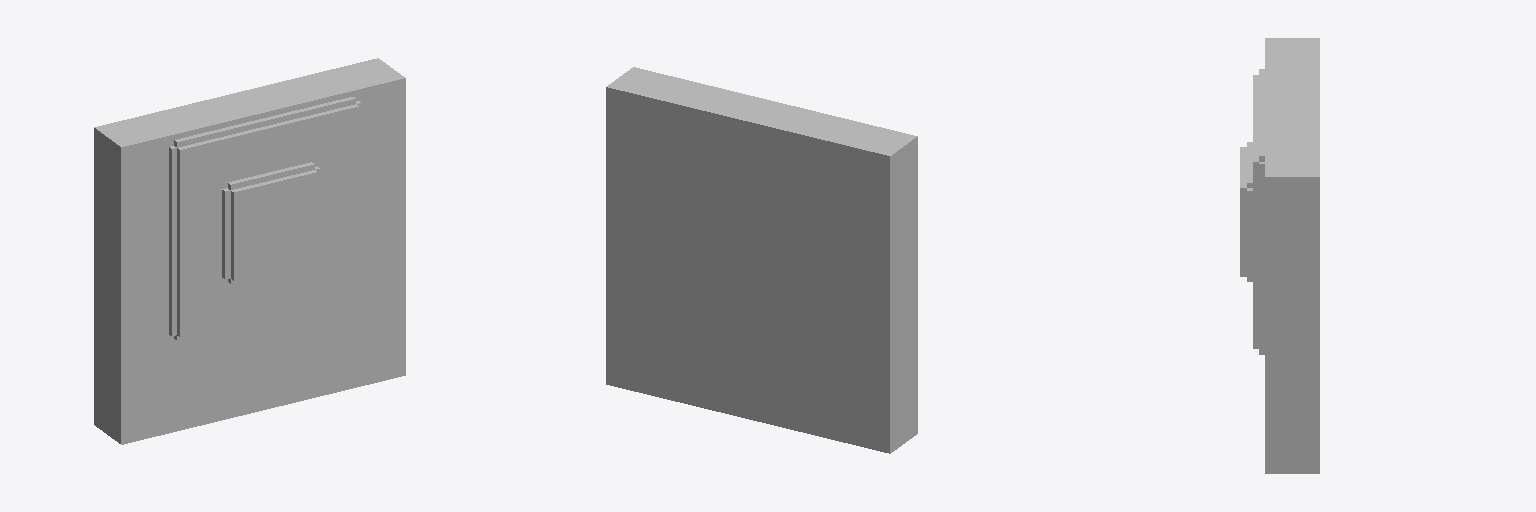
File: door.obj
3 views of the same model, side by side, from view 1: azimuth 30°, elevation 25°; view 2: azimuth 150°, elevation 25°; view 3: azimuth 270°, elevation 25° (orthographic).
Parts seen in each view (by area): view 1: vox; view 2: vox; view 3: vox.
Part boxes in pixels (bbox=[...]): vox: bbox=[94, 58, 405, 444]; vox: bbox=[606, 67, 917, 453]; vox: bbox=[1240, 38, 1319, 473].
Size of the model in its own units: 5.4 by 5.4 by 1.3.